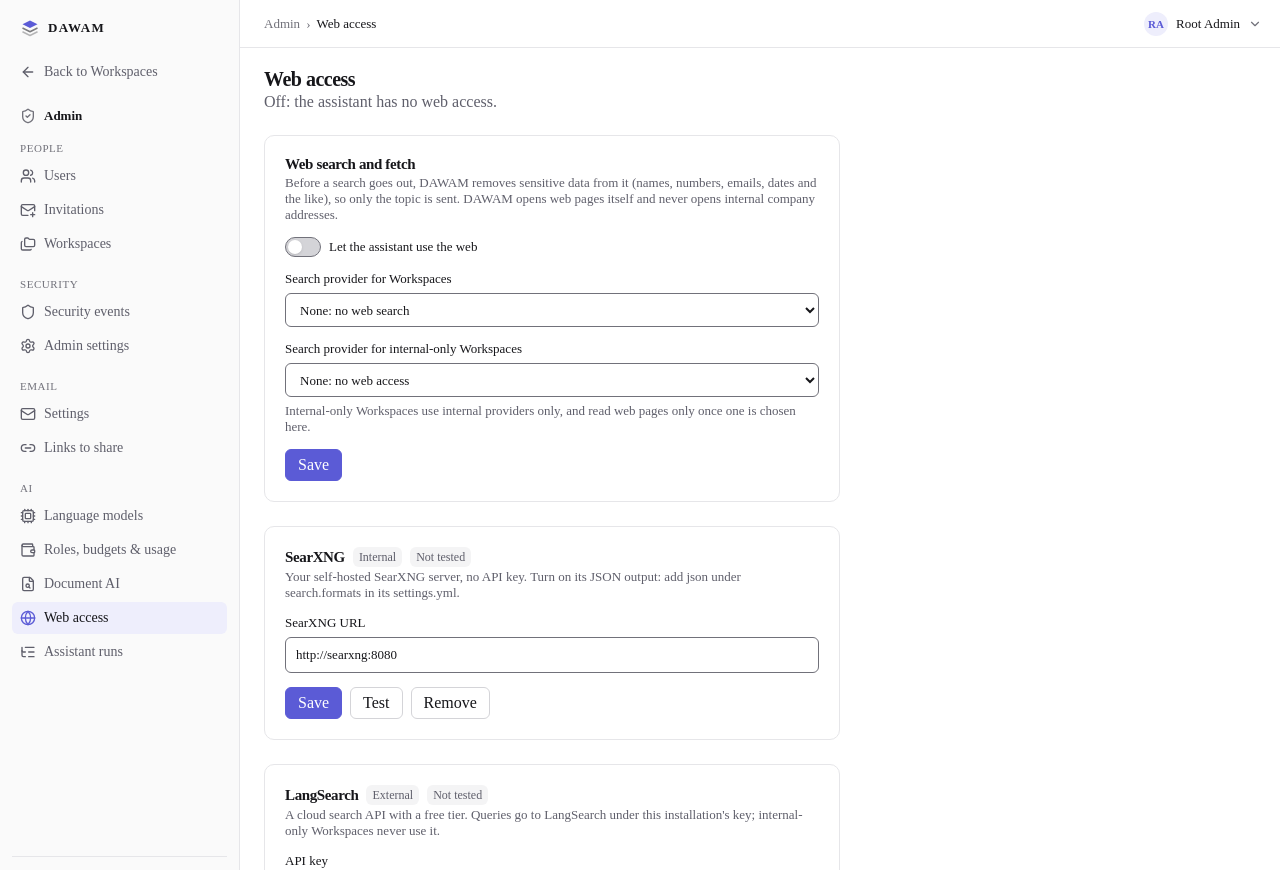
Scenario: web access admin page › turns web access on and picks the provider of each kind of Workspace
Step 1. Click the switch → x=303, y=247, box [285,237,321,257]
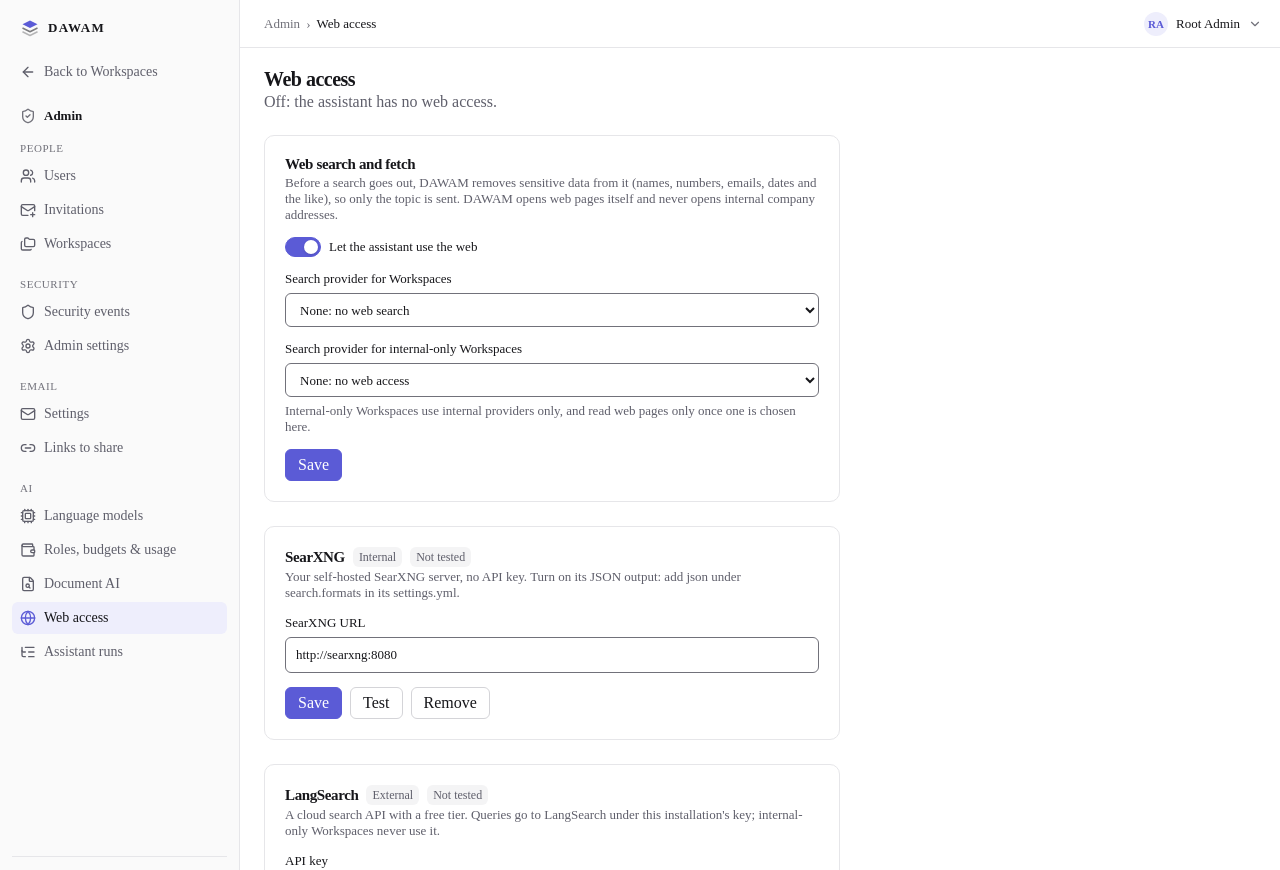
Step 2. Select "LangSearch (external)" in the dropdown labelled "Search provider for Workspaces" → x=552, y=310, box [285,293,819,327]
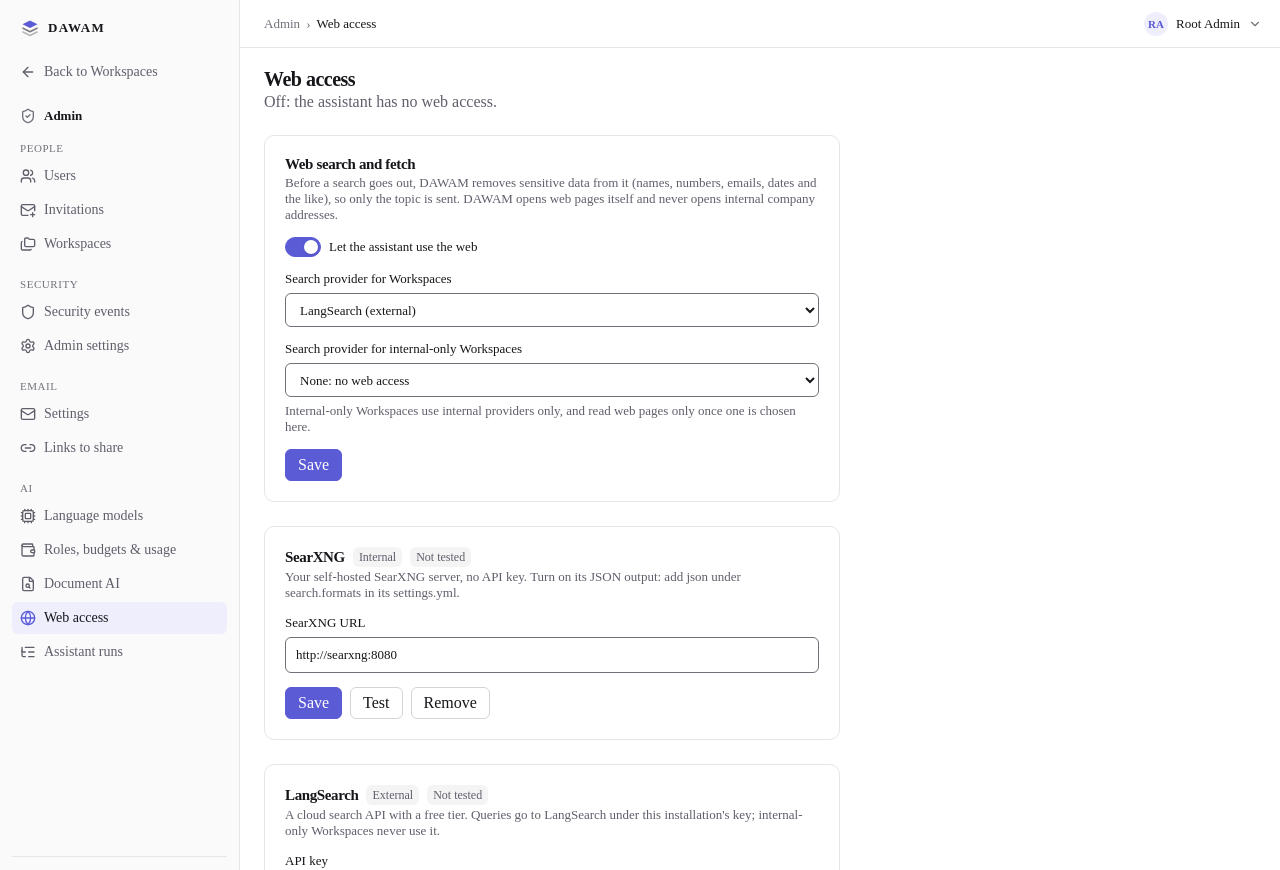
Step 3. Select "SearXNG (internal)" in the dropdown labelled "provider for internal-only Workspaces" → x=552, y=380, box [285,363,819,397]
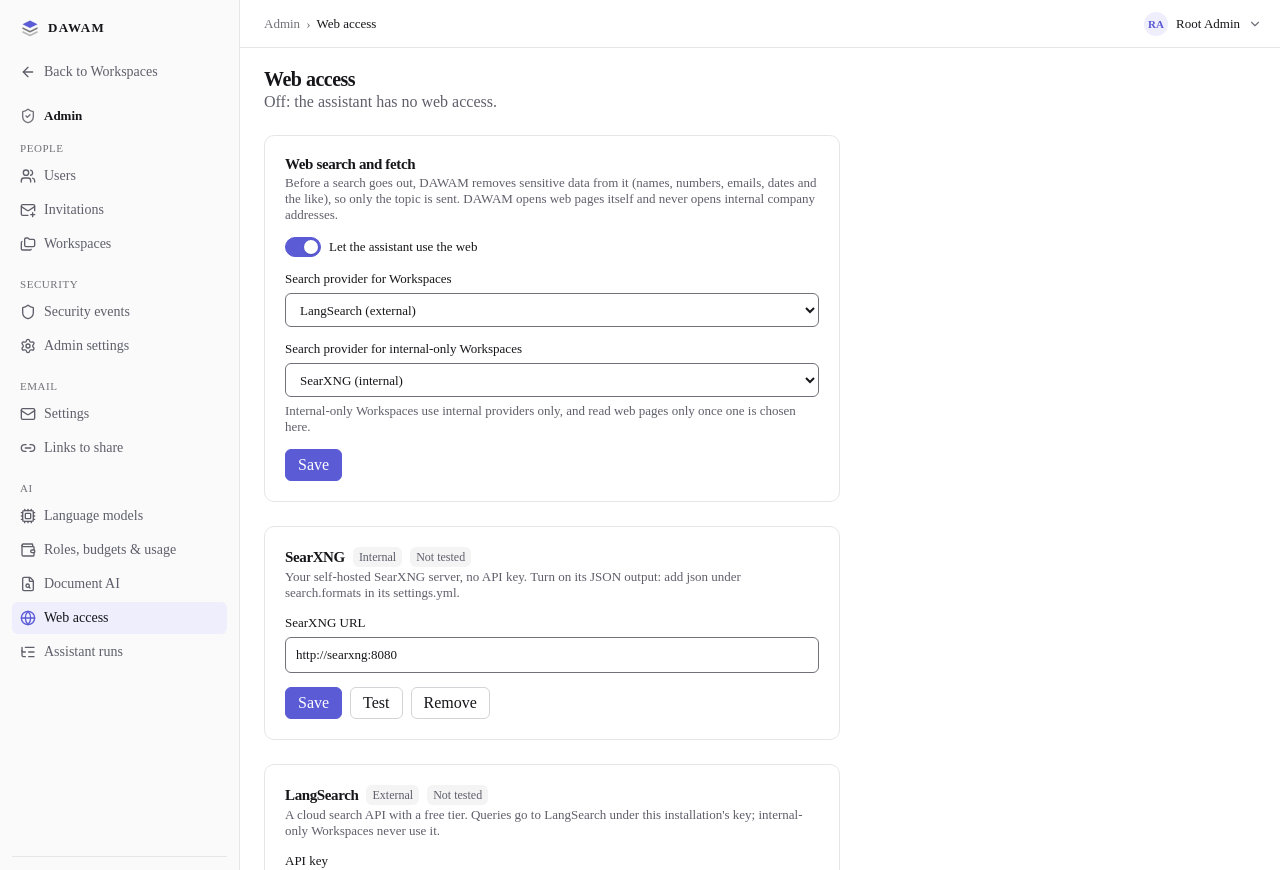
Step 4. Click the button "Save" below "Search provider for Workspaces" → x=314, y=465, box [285,449,342,481]
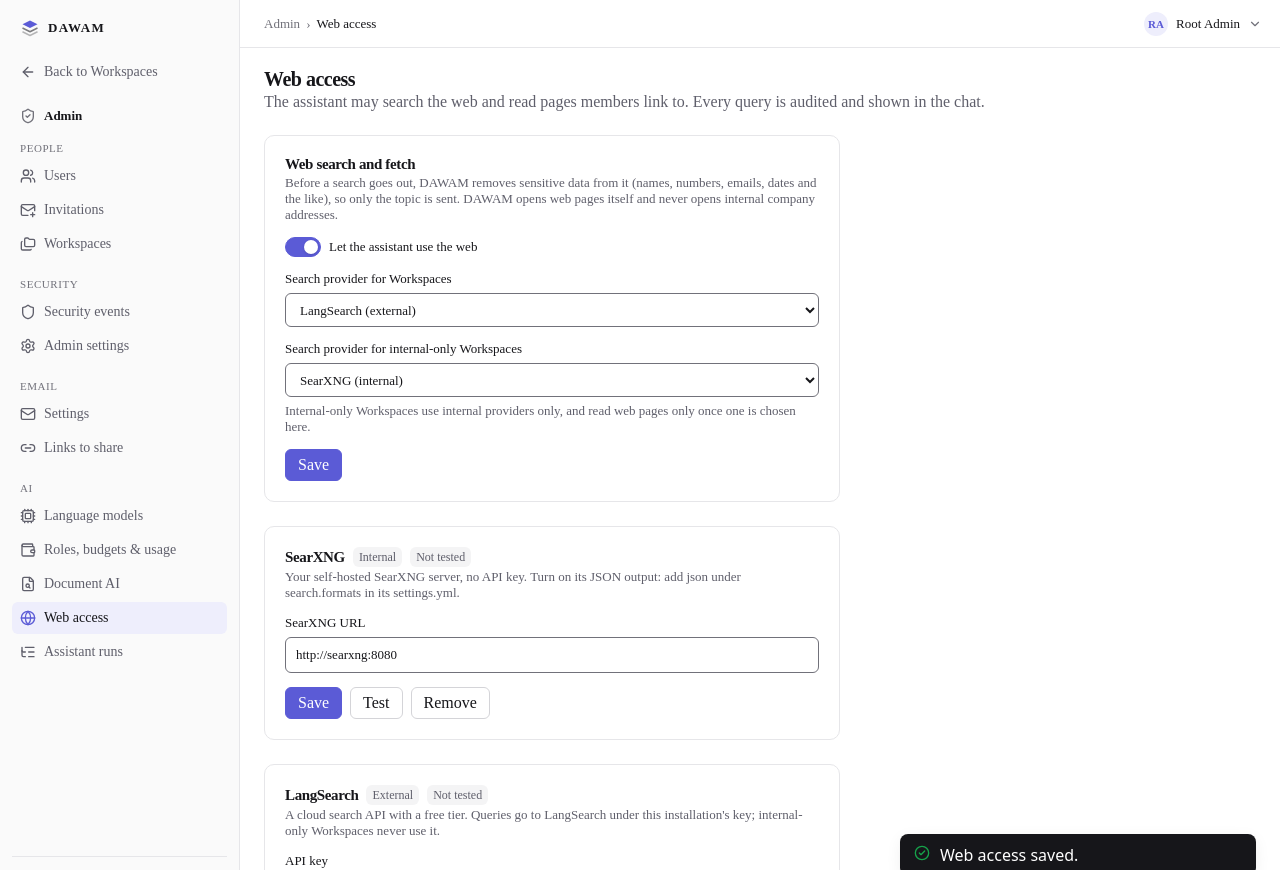
Expected: the text "may search the web" is shown, [264,93,985,110]
